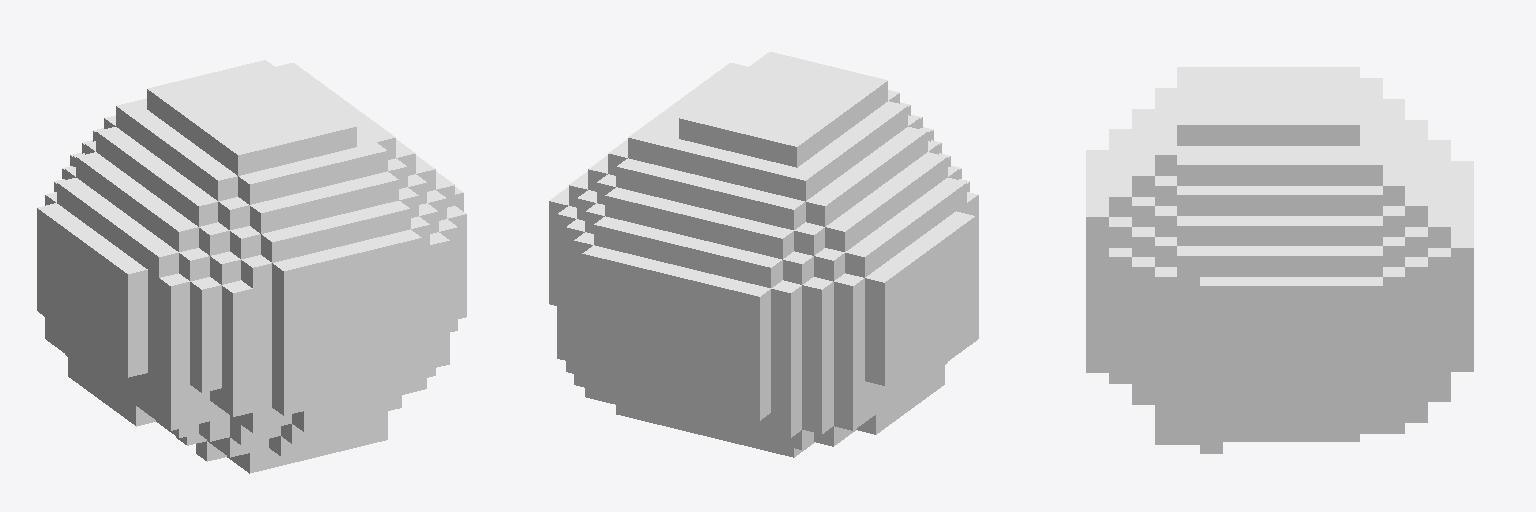
The model's file is Capacete.obj.
3 views of the same model, side by side, from view 1: azimuth 30°, elevation 25°; view 2: azimuth 150°, elevation 25°; view 3: azimuth 270°, elevation 25° (orthographic).
Parts seen in each view (by area): view 1: object 1; view 2: object 1; view 3: object 1.
Boxes of the visible parts, <box> form: object 1: <box>37,60,466,473</box>; object 1: <box>549,52,978,457</box>; object 1: <box>1086,67,1473,453</box>.
Bounding box in the file's own units: 1.7 × 1.5 × 1.7.